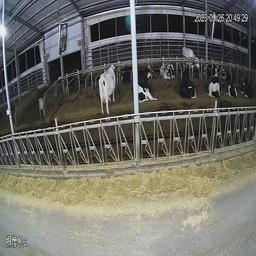cow: (97, 54, 120, 119), (137, 58, 160, 108), (178, 65, 203, 104), (205, 65, 225, 102), (180, 37, 200, 73), (161, 52, 178, 83), (226, 71, 241, 102), (241, 72, 252, 101)
